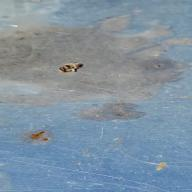Bee: (52, 57, 95, 77)
